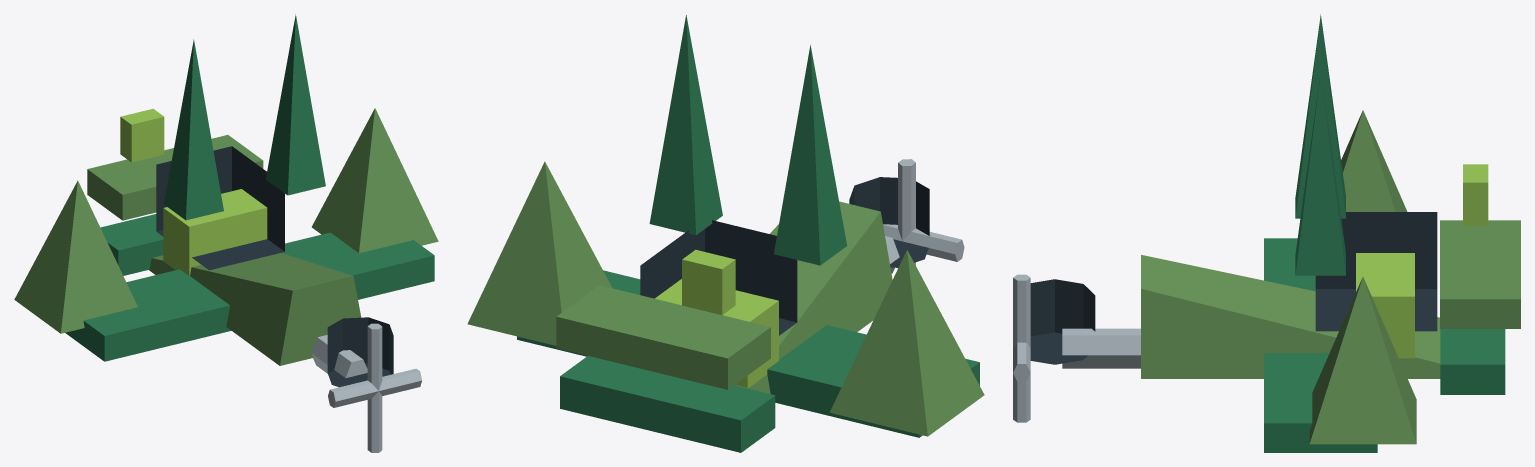
The model's file is interceptor.obj.
3 renders of one model, left to right at view 1: azimuth 30°, elevation 25°; view 2: azimuth 150°, elevation 25°; view 3: azimuth 270°, elevation 25°, orthographic. The views are drawn at different scales.
Visible parts, largest first — view 1: air; view 2: air; view 3: air.
Boxes of the visible parts, left/top/right/bottom form: air: left=14, top=14, right=438, bottom=452; air: left=467, top=15, right=984, bottom=452; air: left=1013, top=14, right=1520, bottom=452.
Bounding box in the file's own units: 1.78 × 1.48 × 1.8.
